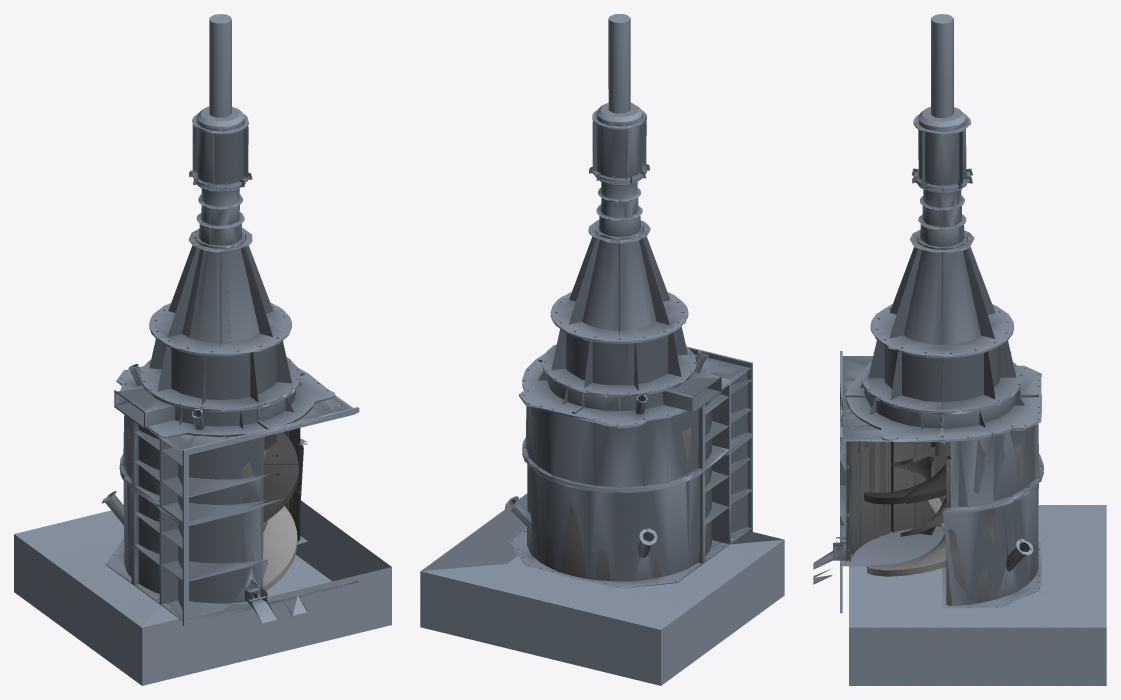
The model's file is mill-verti.glb.
3 renders of one model, left to right at view 1: azimuth 30°, elevation 25°; view 2: azimuth 150°, elevation 25°; view 3: azimuth 270°, elevation 25°, orthographic. The views are drawn at different scales.
Parts seen in each view (by area): view 1: millBody:body, sinterHicr:liners, sinterCeramic:liners, metal:wall-liners; view 2: millBody:body, metal:wall-liners; view 3: millBody:body, metal:wall-liners, sinterCeramic:liners, metal:shaft, sinterHicr:liners.
Boxes of the visible parts, x1,y1,x2,y2 form: millBody:body: [14, 14, 391, 685]; sinterHicr:liners: [263, 432, 299, 522]; sinterCeramic:liners: [263, 506, 297, 590]; metal:wall-liners: [127, 428, 300, 590]; millBody:body: [420, 14, 784, 685]; metal:wall-liners: [527, 415, 711, 580]; millBody:body: [813, 14, 1106, 685]; metal:wall-liners: [846, 441, 1038, 605]; sinterCeramic:liners: [866, 497, 946, 576]; metal:shaft: [894, 441, 950, 536]; sinterHicr:liners: [864, 455, 950, 504].
Size of the model in its own units: 9 by 20.76 by 9.12.
Materials: 5 (5 with a texture image).
